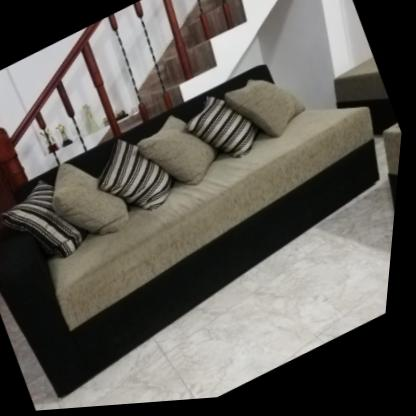Sofa: (0, 25, 413, 413)
